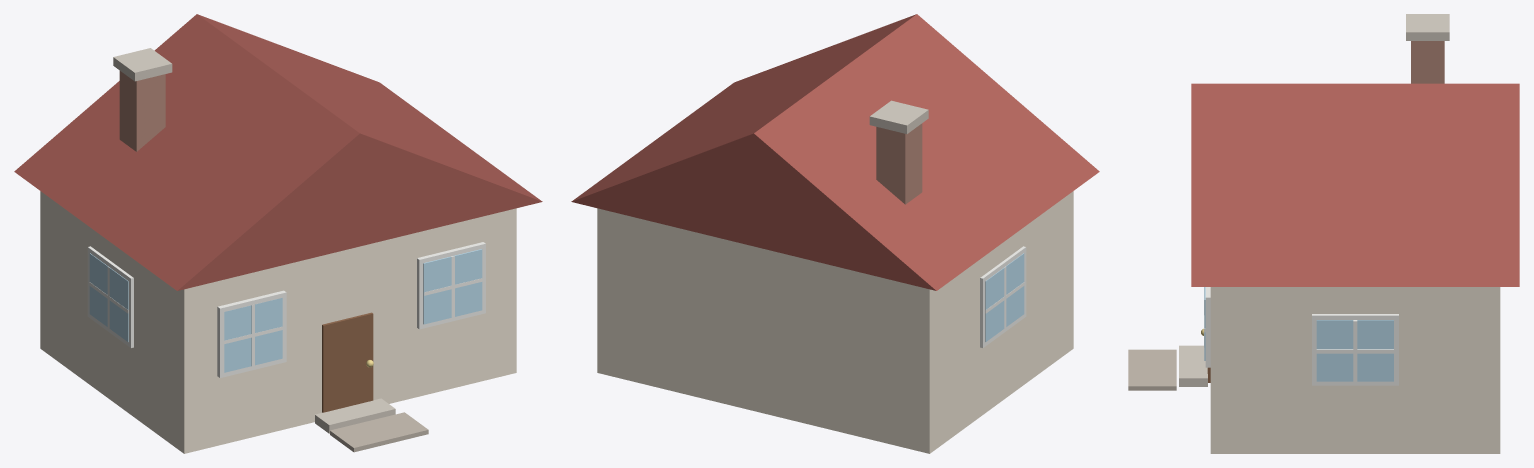
The model's file is house.fbx.
3 views of the same model, side by side, from view 1: azimuth 30°, elevation 25°; view 2: azimuth 150°, elevation 25°; view 3: azimuth 270°, elevation 25° (orthographic).
Visible parts, largest first — view 1: Roof, Body, Door, WinFR_P, WinFL_P, Chimney, WinL_P, Path0, WinFL_F, WinFR_F, Step, ChimneyCap (+1 smaller); view 2: Roof, Body, Chimney, WinL_P, ChimneyCap, WinL_F; view 3: Roof, Body, WinR_P, Path0, WinR_F, Chimney, ChimneyCap, Step, WinFR_F.
Boxes of the visible parts, x1,y1,x2,y2 form: Roof: [14, 14, 542, 290]; Body: [40, 191, 516, 453]; Door: [322, 312, 373, 412]; WinFR_P: [423, 249, 482, 324]; WinFL_P: [224, 298, 282, 372]; Chimney: [119, 71, 165, 151]; WinL_P: [89, 253, 128, 341]; Path0: [330, 412, 428, 452]; WinFL_F: [217, 290, 286, 377]; WinFR_F: [417, 242, 485, 329]; Step: [315, 398, 395, 433]; ChimneyCap: [113, 48, 172, 81]; Roof: [571, 14, 1099, 290]; Body: [597, 191, 1073, 453]; Chimney: [876, 123, 922, 204]; WinL_P: [985, 253, 1024, 341]; ChimneyCap: [869, 100, 928, 133]; WinL_F: [980, 246, 1026, 347]; Roof: [1191, 83, 1519, 286]; Body: [1210, 287, 1500, 453]; WinR_P: [1316, 320, 1393, 381]; Path0: [1128, 349, 1176, 390]; WinR_F: [1312, 314, 1398, 385]; Chimney: [1411, 41, 1444, 83]; ChimneyCap: [1406, 14, 1449, 40]; Step: [1179, 345, 1207, 386]; WinFR_F: [1205, 287, 1210, 367].
Bounding box in the file's own units: 880 × 686 × 810.
